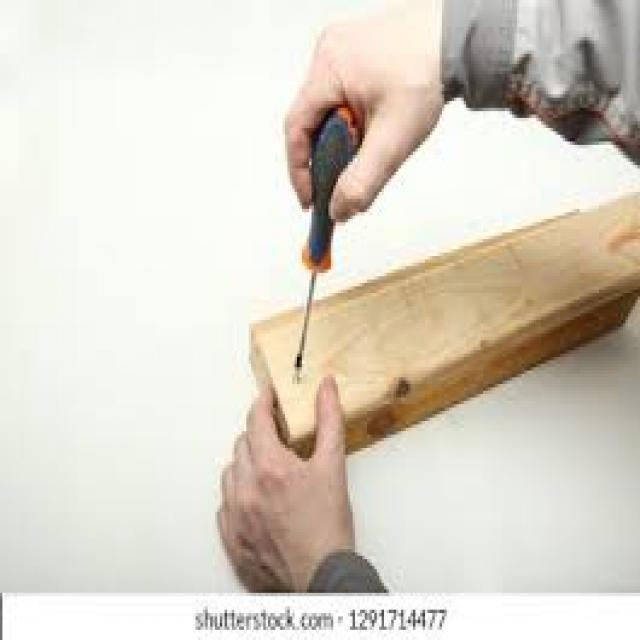screwdriver: (293, 105, 361, 368)
